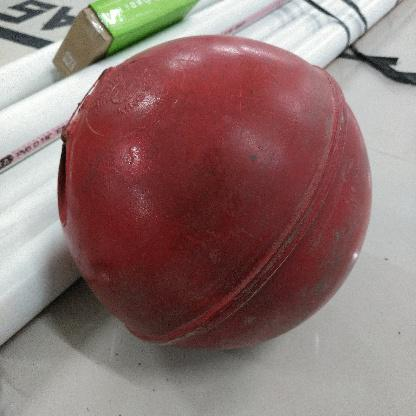red_buoy: (48, 30, 378, 368)
